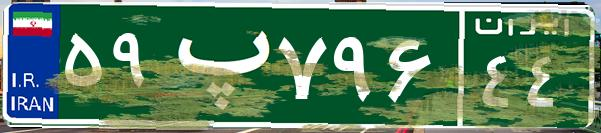4: (475, 38, 525, 113), (525, 38, 570, 115)
5: (57, 26, 110, 107)
6: (385, 28, 445, 110)
7: (273, 28, 330, 110)
9: (330, 28, 385, 110), (110, 28, 158, 105)
پ: (158, 15, 273, 115)
